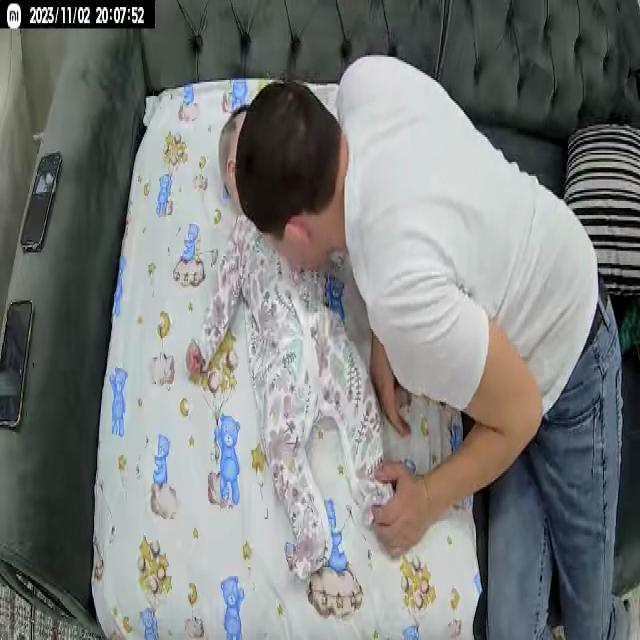baby: (185, 101, 402, 584)
